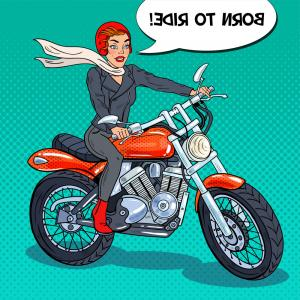with_helmet: (95, 21, 137, 59)
